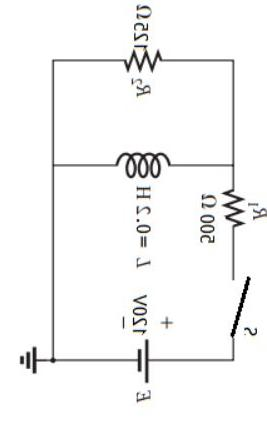inductor: (101, 139, 178, 183)
